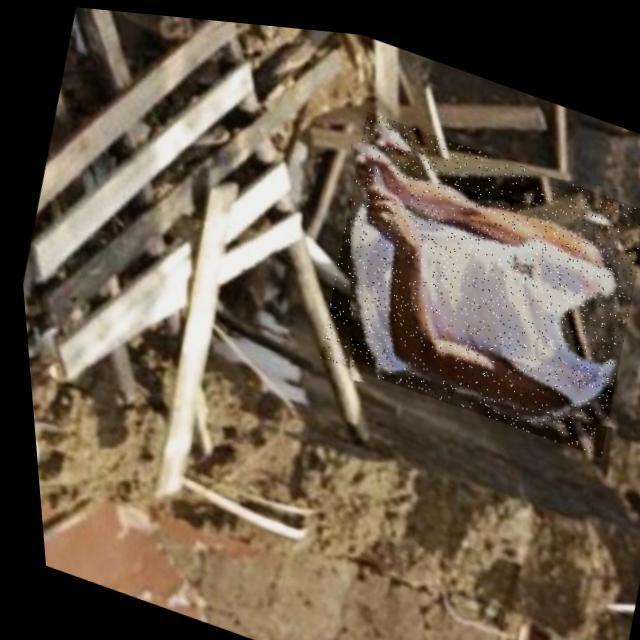Person in Rubble: (297, 98, 640, 451)
